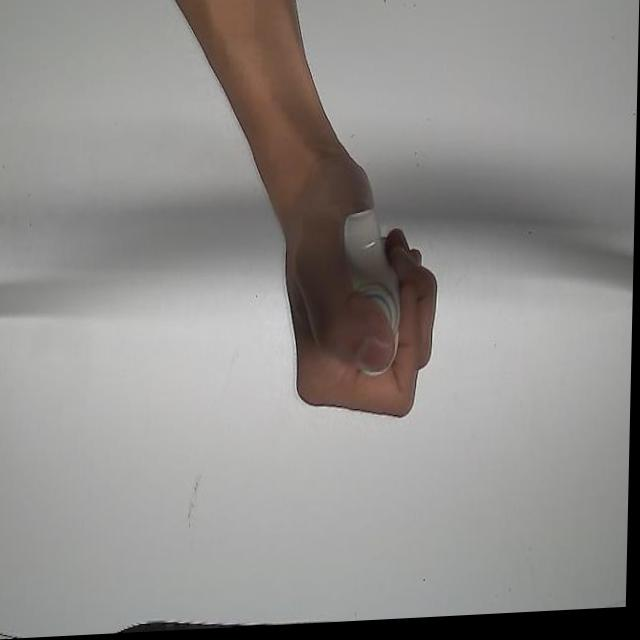Single Channel Pipettor: (334, 206, 412, 386)
